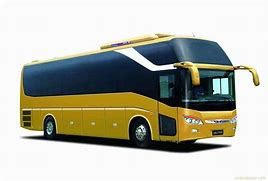bigcar: (12, 24, 261, 151)
